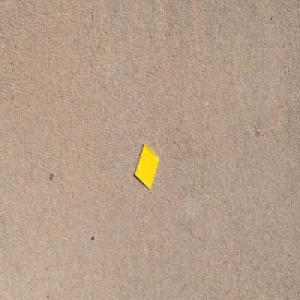PlasticPart: (134, 141, 159, 189)
